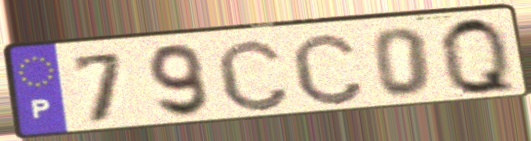0: (368, 25, 436, 100)
7: (70, 49, 129, 125)
9: (143, 42, 214, 120)
C: (287, 29, 368, 108), (212, 36, 294, 114)
Q: (436, 14, 522, 98)
